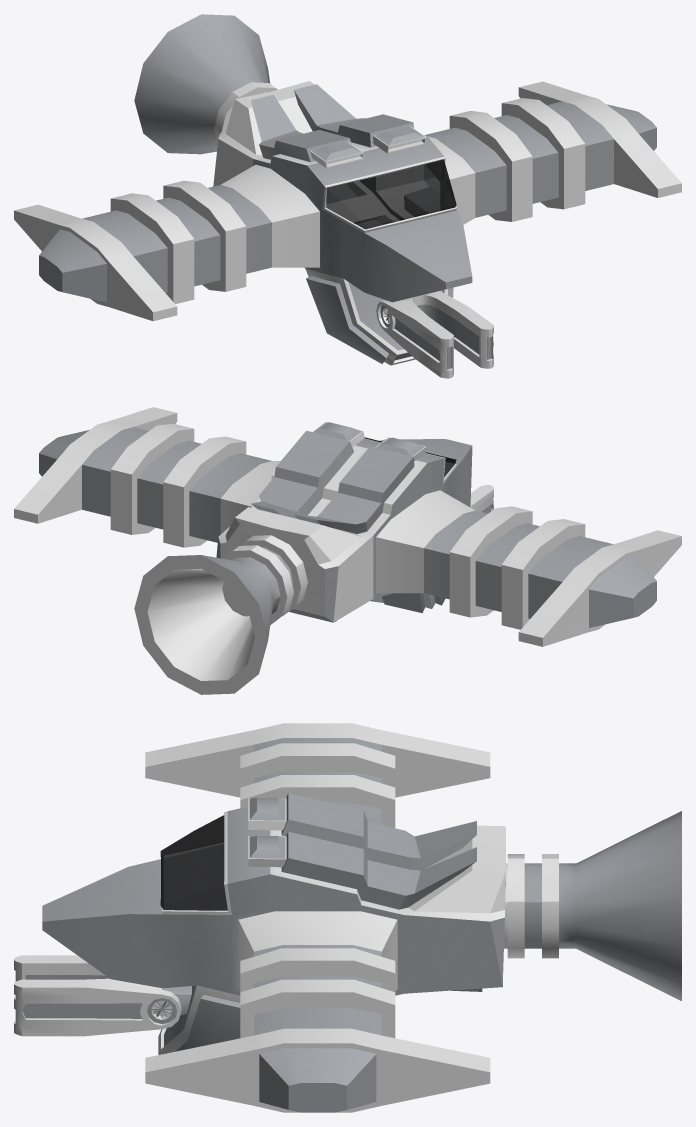
File: CDD.fbx
3 views of the same model, one above another, from view 1: azimuth 30°, elevation 25°; view 2: azimuth 150°, elevation 25°; view 3: azimuth 270°, elevation 25° (orthographic). The views are drawn at different scales.
Visible parts, largest first — view 1: CDD; view 2: CDD; view 3: CDD.
Part boxes in pixels (left/top/right/bottom): CDD: left=14, top=14, right=681, bottom=378; CDD: left=14, top=407, right=681, bottom=694; CDD: left=14, top=723, right=681, bottom=1112.
Bounding box in the file's own units: 8.9 × 2.84 × 6.98.
